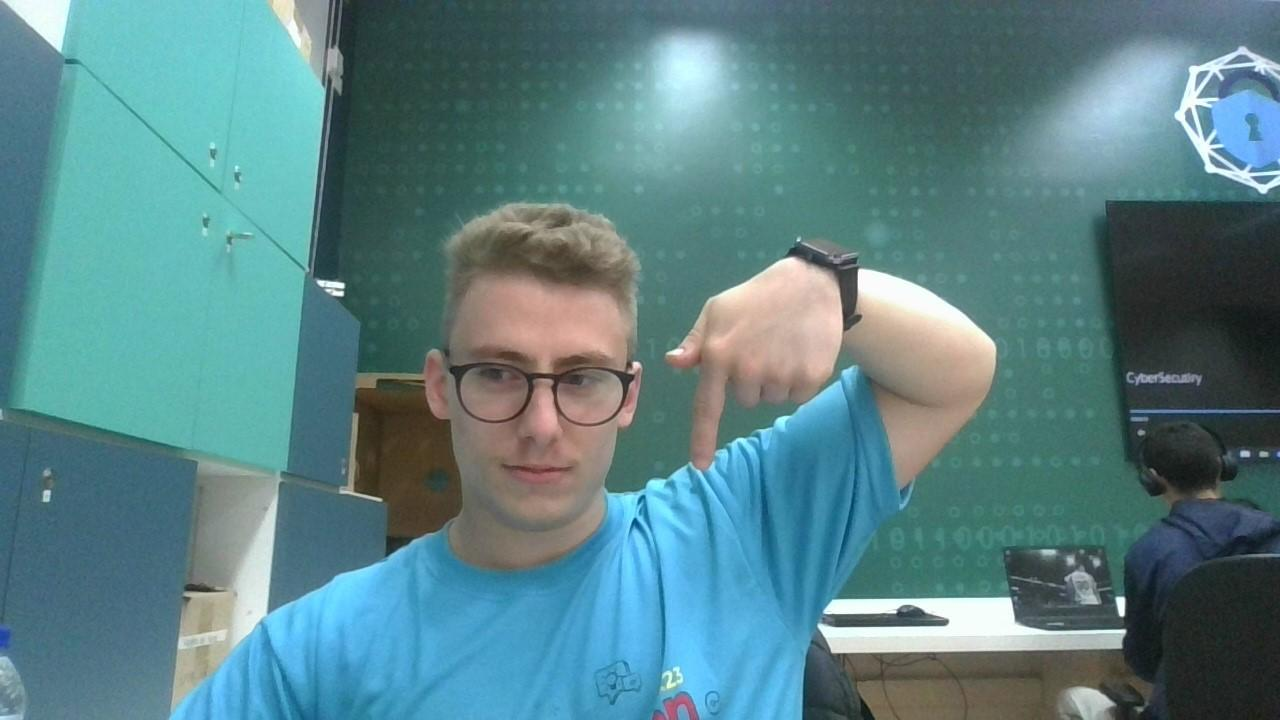Q: (668, 252, 870, 490)
